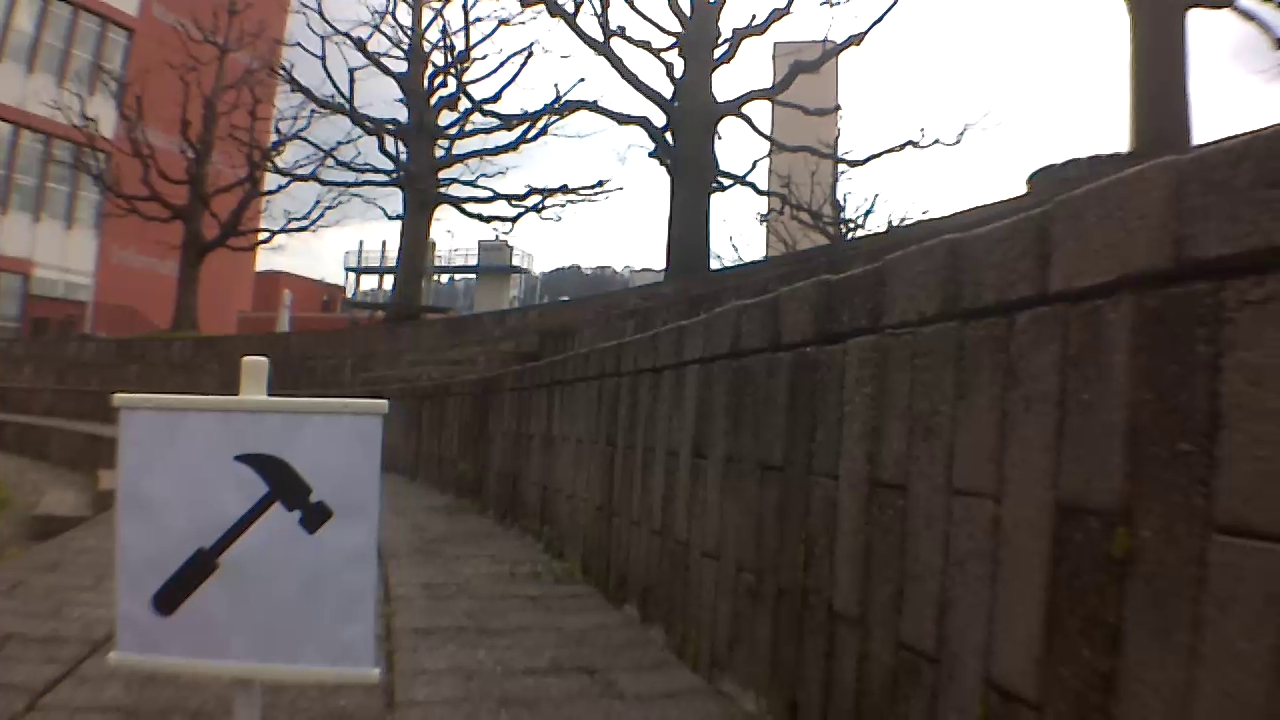hammer: (147, 440, 341, 620)
